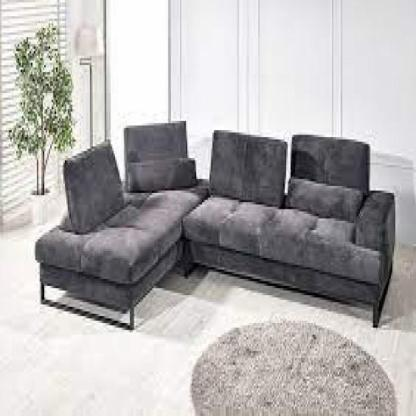Sofa: (10, 119, 416, 344)
